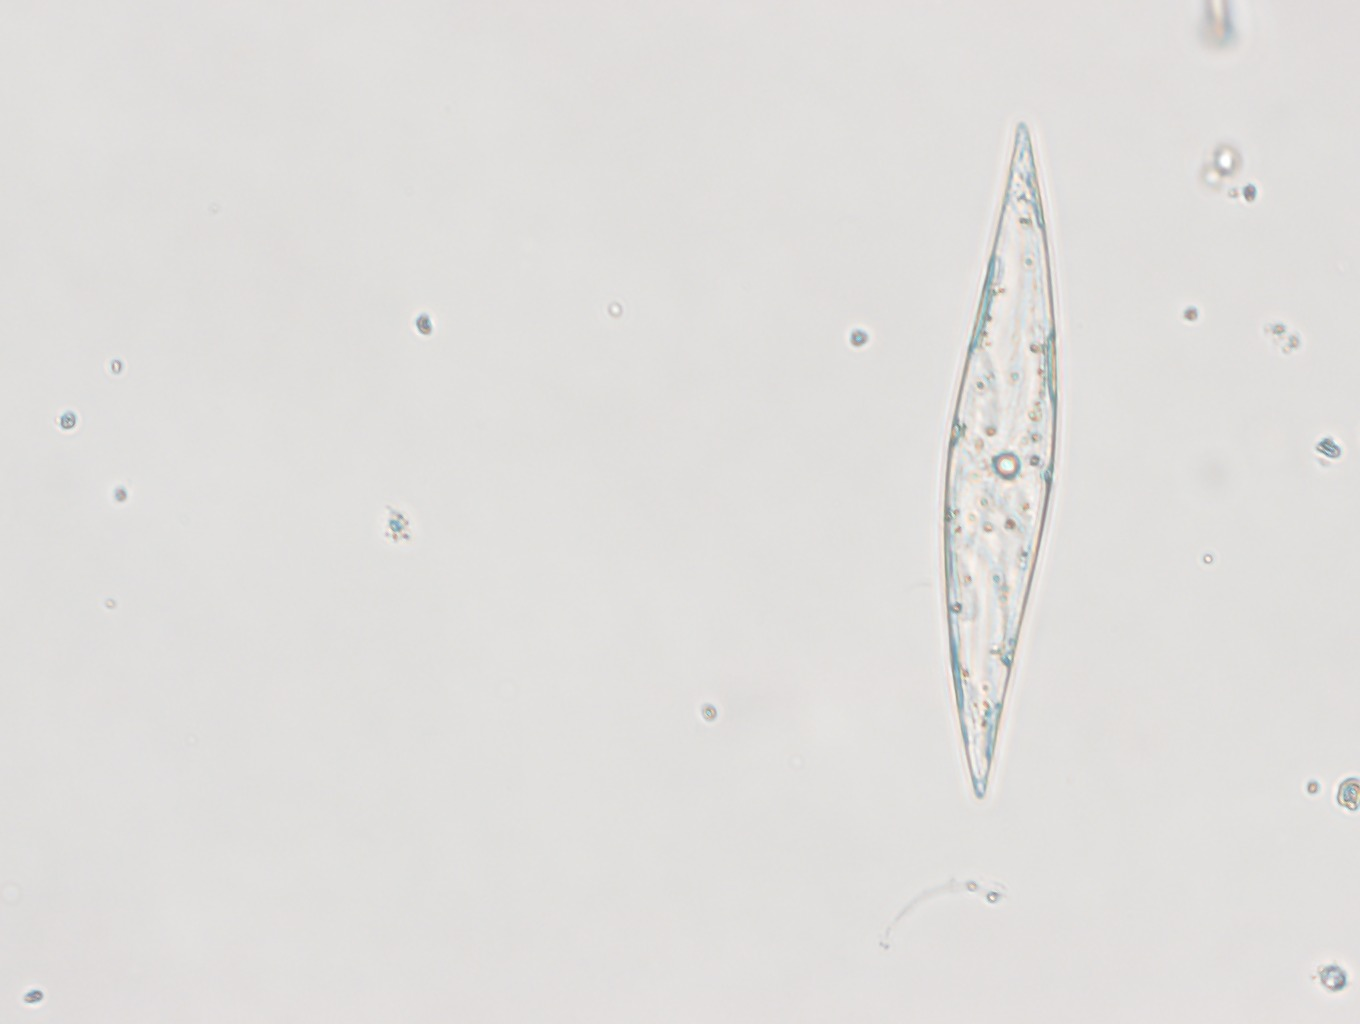pleurosigma pelagicum: (942, 122, 1056, 799)
